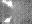person: (3, 1, 12, 7), (4, 17, 11, 23)
